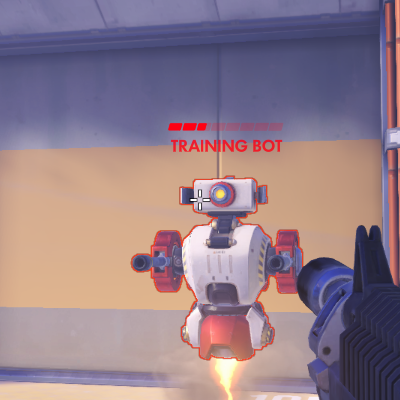hpbar: (167, 122, 284, 132)
